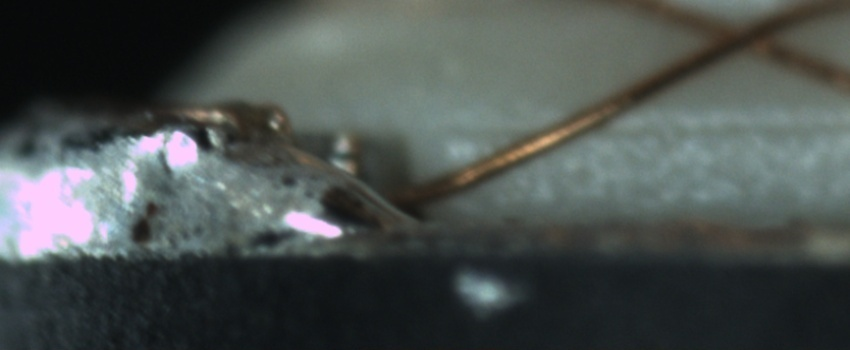CL: (698, 4, 792, 64)
DL: (436, 97, 849, 161)
TE: (150, 96, 294, 150)
